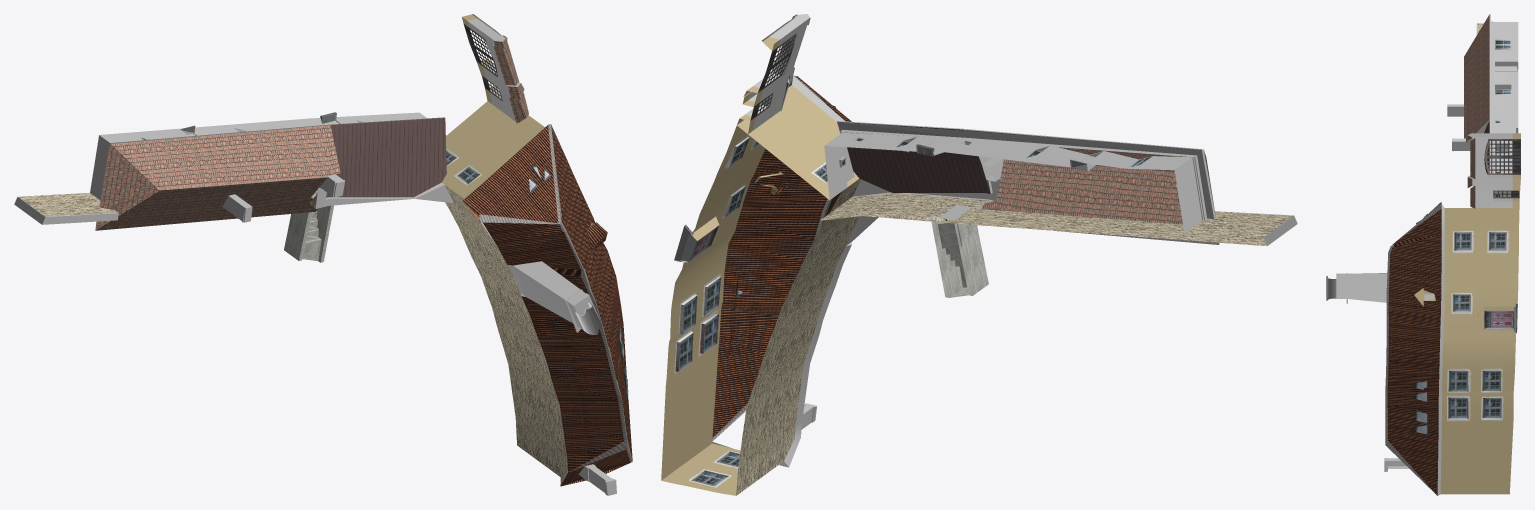
The model's file is Toom-Kooli_21_1-origo.obj.
3 renders of one model, left to right at view 1: azimuth 30°, elevation 25°; view 2: azimuth 150°, elevation 25°; view 3: azimuth 270°, elevation 25°, orthographic. The views are drawn at different scales.
Visible parts, largest first — view 1: Toom_Kooli_21_1; view 2: Toom_Kooli_21_1; view 3: Toom_Kooli_21_1.
Boxes of the visible parts, box(x1,y1,x2,y2) form: Toom_Kooli_21_1: box(14, 14, 632, 495); Toom_Kooli_21_1: box(661, 14, 1297, 495); Toom_Kooli_21_1: box(1326, 14, 1520, 495).
Bounding box in the file's own units: 42.38 × 31.5 × 17.06.
